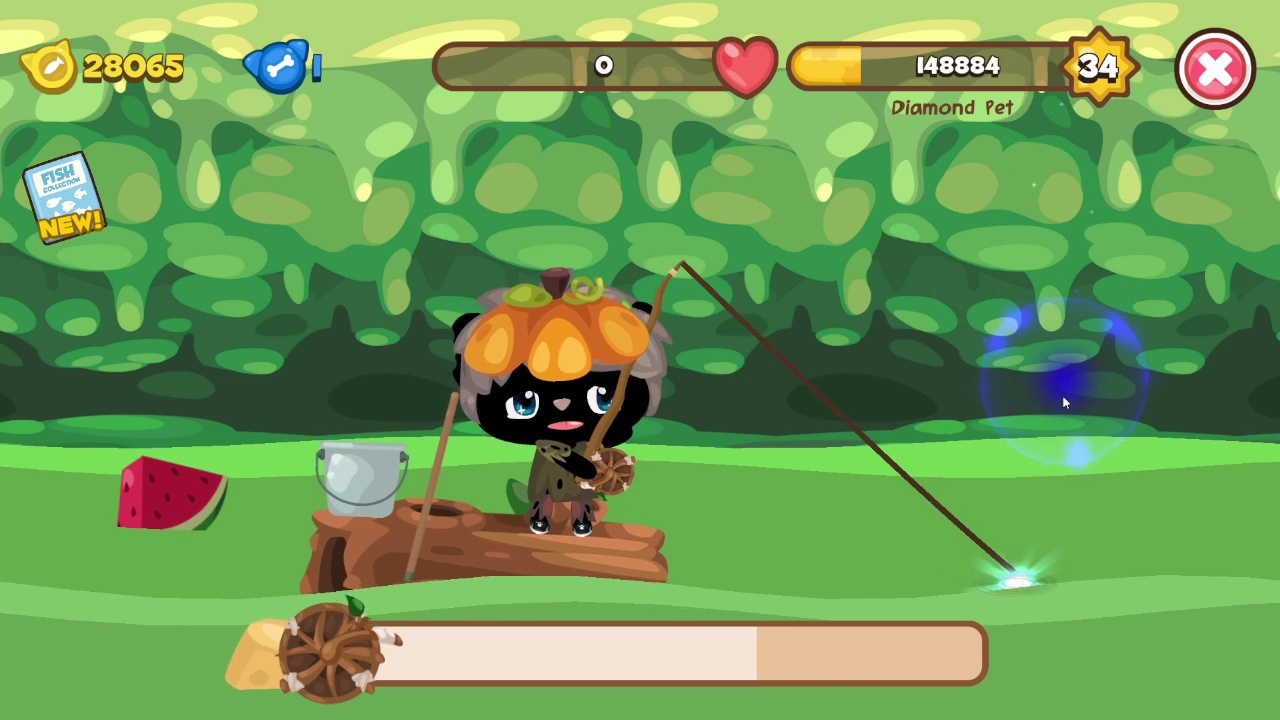point: (978, 295, 1151, 470)
